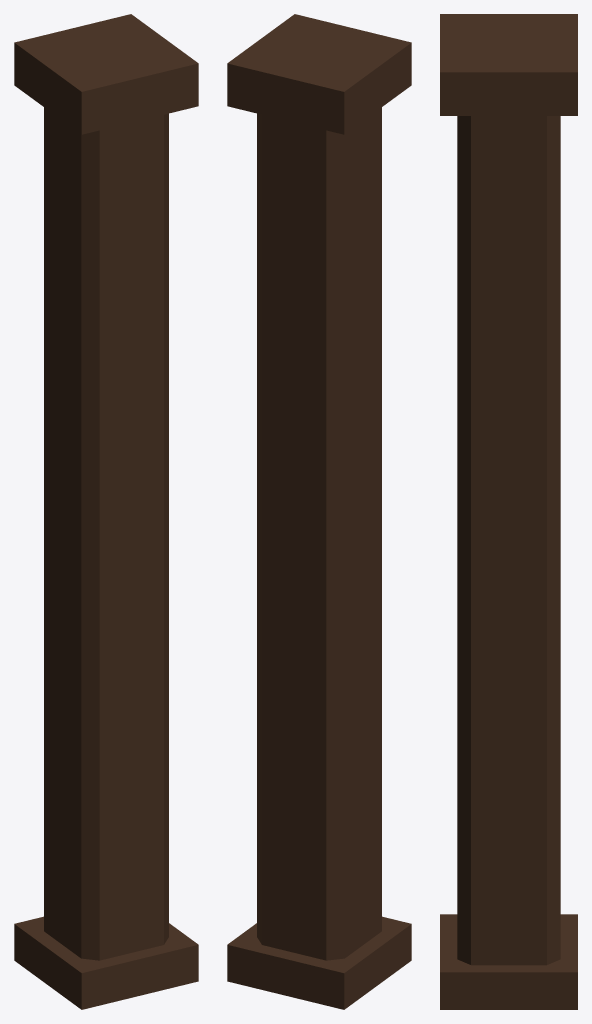
File: pillar_wood_lod0.glb
3 renders of one model, left to right at view 1: azimuth 30°, elevation 25°; view 2: azimuth 150°, elevation 25°; view 3: azimuth 270°, elevation 25°, orthographic. The views are drawn at different scales.
Parts seen in each view (by area): view 1: pillar_wood; view 2: pillar_wood; view 3: pillar_wood.
Part boxes in pixels (box(x1,y1,x2,y2)): pillar_wood: box(14, 14, 198, 1009); pillar_wood: box(227, 14, 411, 1009); pillar_wood: box(440, 14, 577, 1009).
Bounding box in the file's own units: 0.4 × 3 × 0.4.
